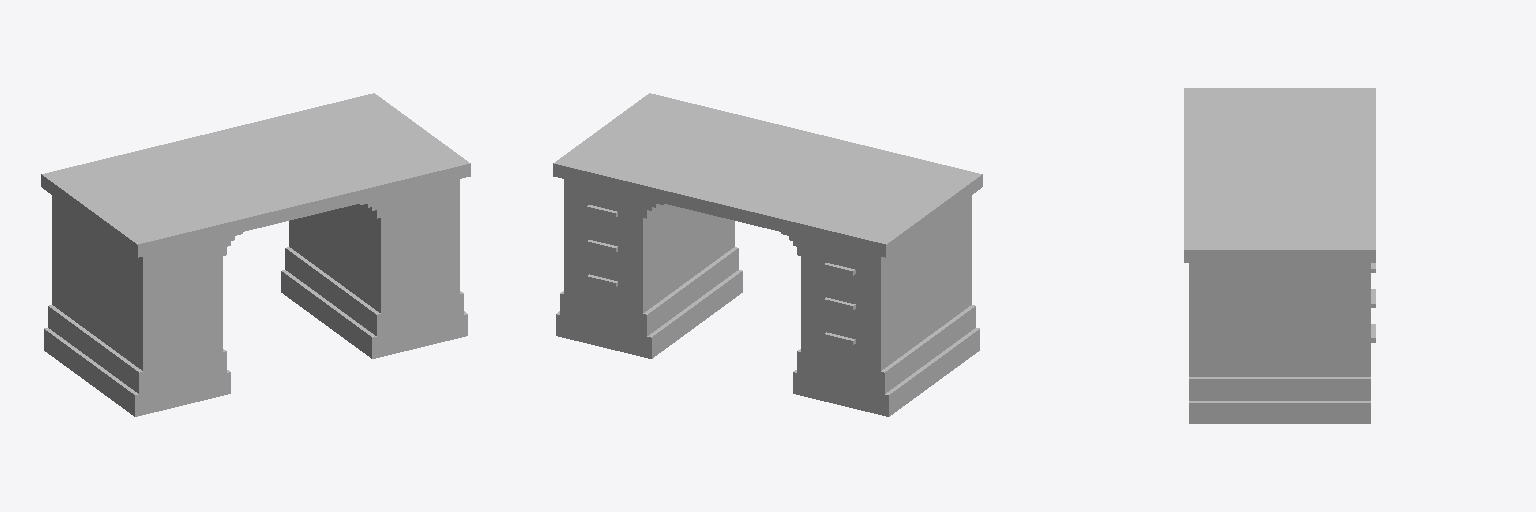
File: desk.obj
3 renders of one model, left to right at view 1: azimuth 30°, elevation 25°; view 2: azimuth 150°, elevation 25°; view 3: azimuth 270°, elevation 25°, orthographic.
Visible parts, largest first — view 1: object 1; view 2: object 1; view 3: object 1.
Boxes of the visible parts, box(x1,y1,x2,y2) form: object 1: box(41, 93, 470, 416); object 1: box(553, 93, 982, 416); object 1: box(1184, 88, 1375, 423).
Size of the model in its own units: 8 by 4 by 4.